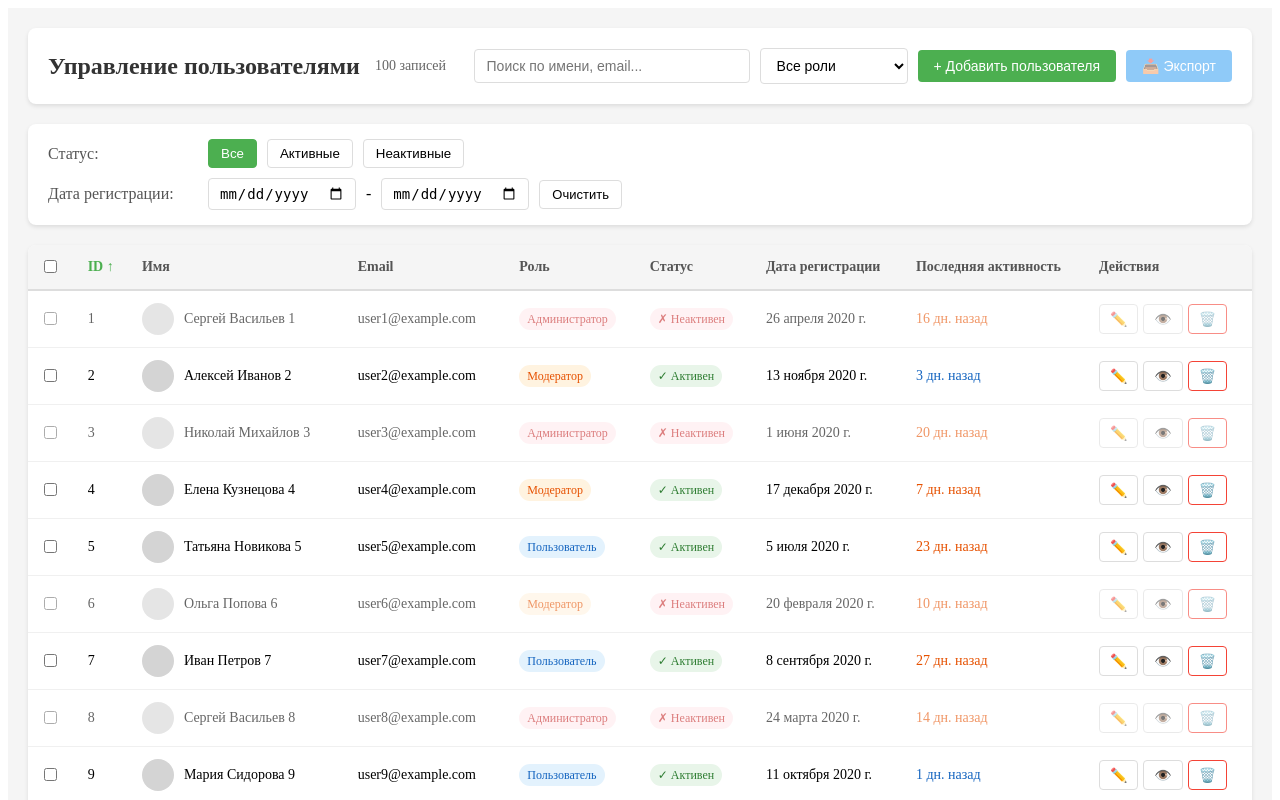
Test: UserTable › Фильтрация по статусу › должен фильтровать активных пользователей
Click the button with class "filter-btn" showing "Активные" at (310, 154), box [267,139,353,168]
(page scrolled)
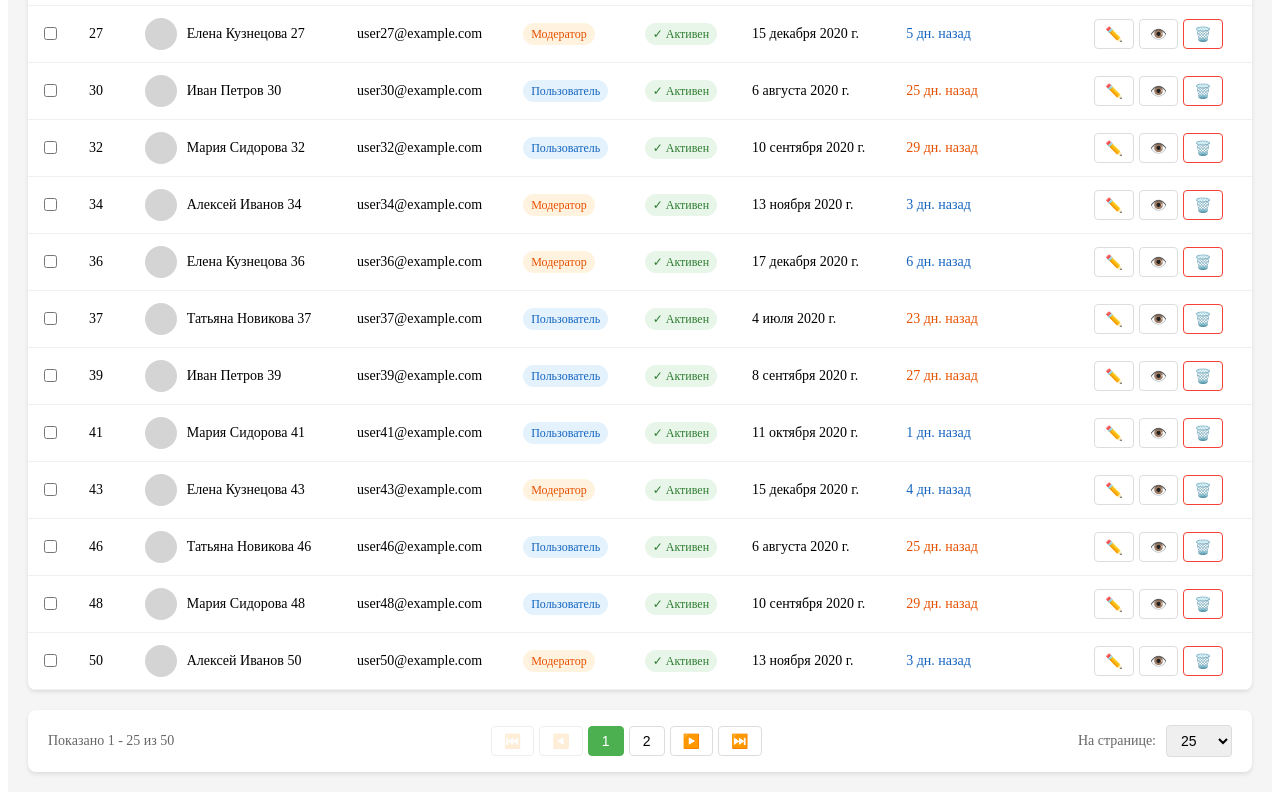
Result: the text with class "status-active" in the row of "Елена Кузнецова 27" is shown at [645,23,717,45]
Result: the text with class "status-active" in the row of "Иван Петров 30" is shown at [645,80,717,102]
Result: the text with class "status-active" in the row of "Мария Сидорова 32" is shown at [645,137,717,159]
